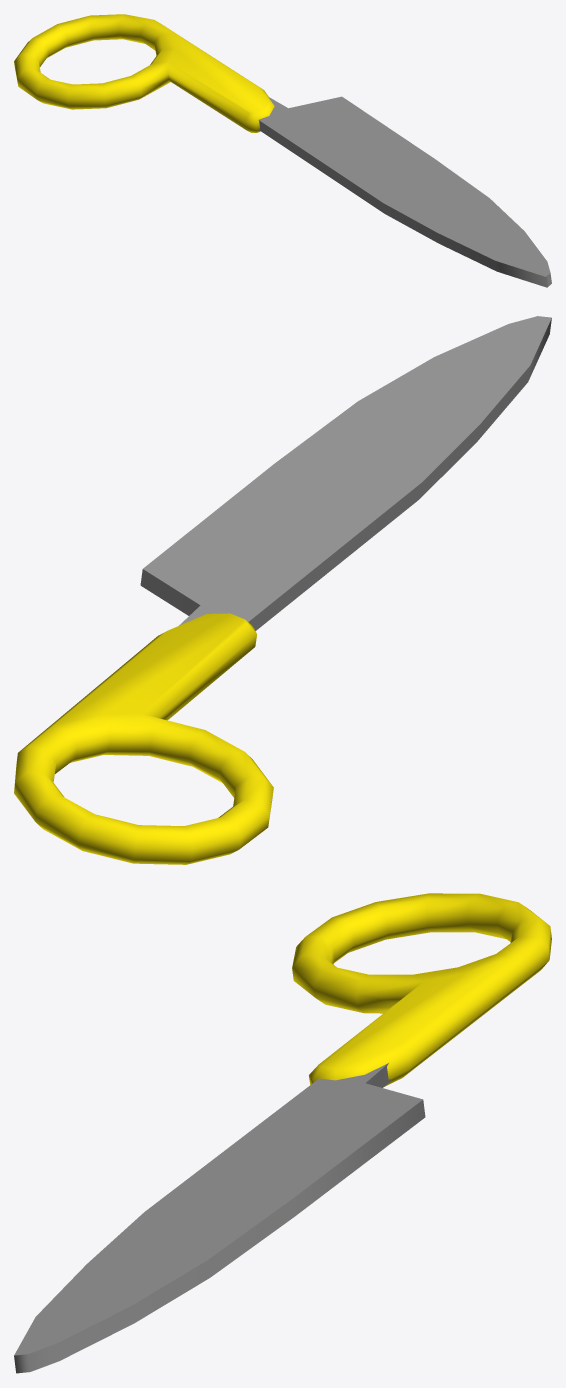
The model's file is SM_BeePart1.FBX.
3 views of the same model, one above another, from view 1: azimuth 30°, elevation 25°; view 2: azimuth 150°, elevation 25°; view 3: azimuth 330°, elevation 25° (orthographic). The views are drawn at different scales.
Visible parts, largest first — view 1: 1; view 2: 1; view 3: 1.
Part boxes in pixels (x1,y1,x2,y2): 1: (14,14,551,287); 1: (14,316,551,864); 1: (14,893,551,1373).
Bounding box in the file's own units: 12.72 × 2.82 × 43.92.
